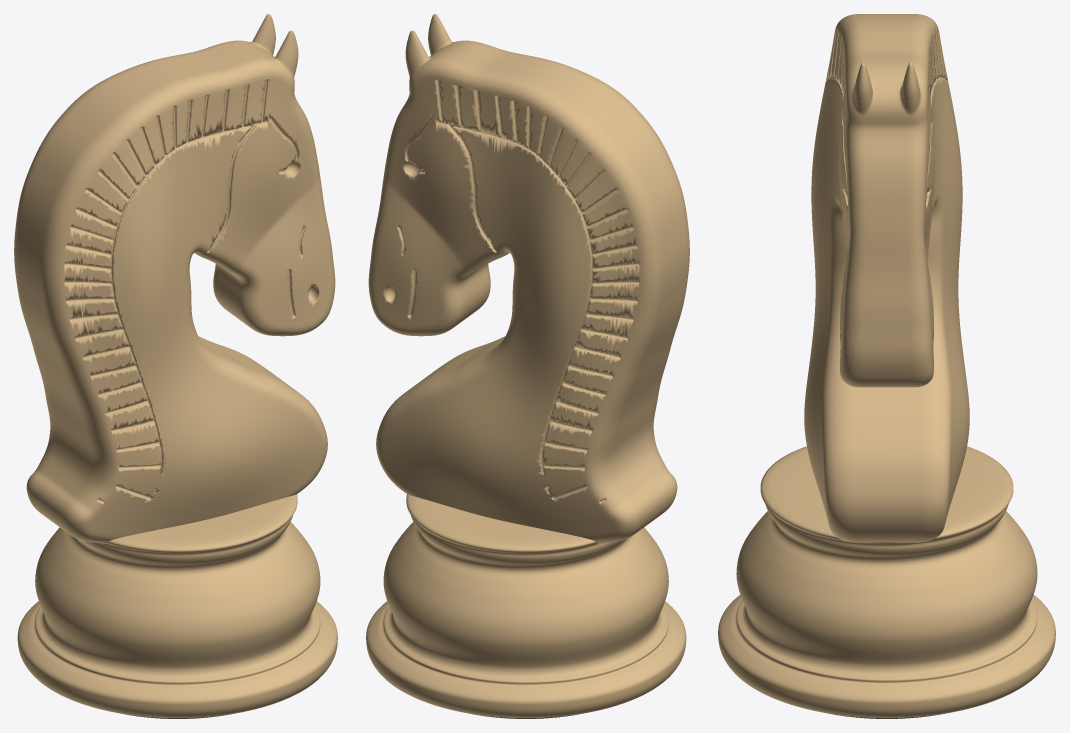
File: knight.glb
3 views of the same model, side by side, from view 1: azimuth 30°, elevation 25°; view 2: azimuth 150°, elevation 25°; view 3: azimuth 270°, elevation 25° (orthographic). The views are drawn at different scales.
Visible parts, largest first — view 1: Piece_Knight; view 2: Piece_Knight; view 3: Piece_Knight.
Boxes of the visible parts, x1,y1,x2,y2 form: Piece_Knight: [14, 14, 337, 718]; Piece_Knight: [366, 14, 689, 718]; Piece_Knight: [718, 14, 1055, 718].
Size of the model in its own units: 0.0388 by 0.0784 by 0.037.
